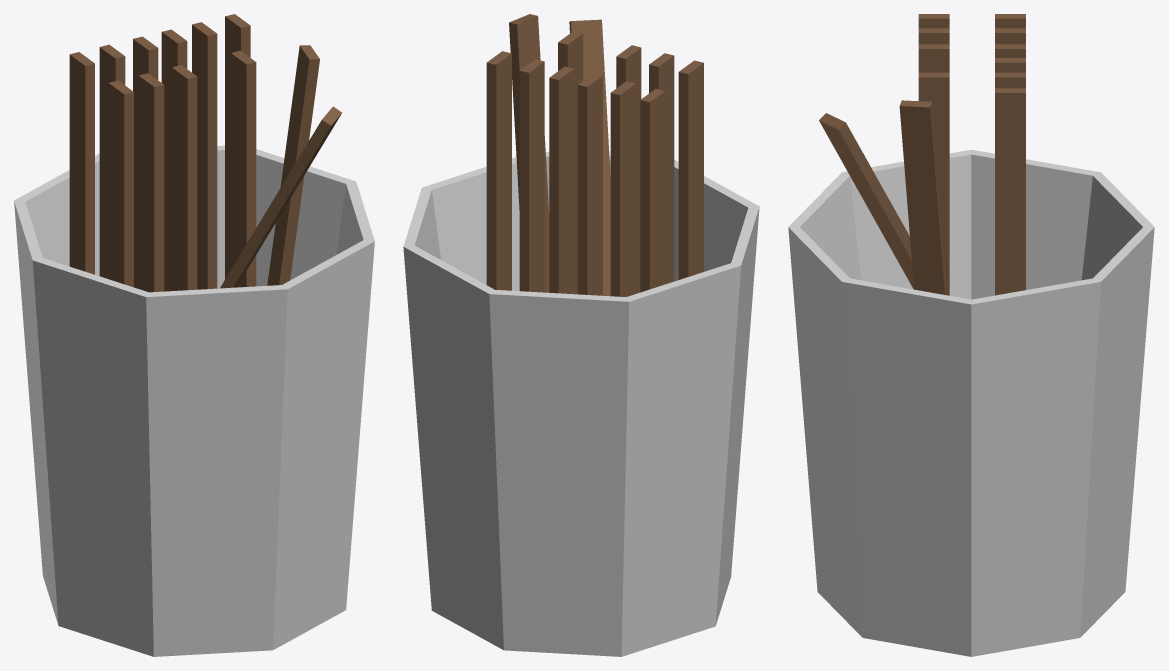
File: SM_Cup_04.glb
3 renders of one model, left to right at view 1: azimuth 30°, elevation 25°; view 2: azimuth 150°, elevation 25°; view 3: azimuth 270°, elevation 25°, orthographic.
Parts seen in each view (by area): view 1: SM_Cup_04; view 2: SM_Cup_04; view 3: SM_Cup_04.
Part boxes in pixels (x1,y1,x2,y2): SM_Cup_04: [14, 14, 374, 656]; SM_Cup_04: [403, 14, 759, 656]; SM_Cup_04: [788, 14, 1154, 656].
Size of the model in its own units: 0.1173 by 0.1877 by 0.1173.
1 material, 1 textured.
